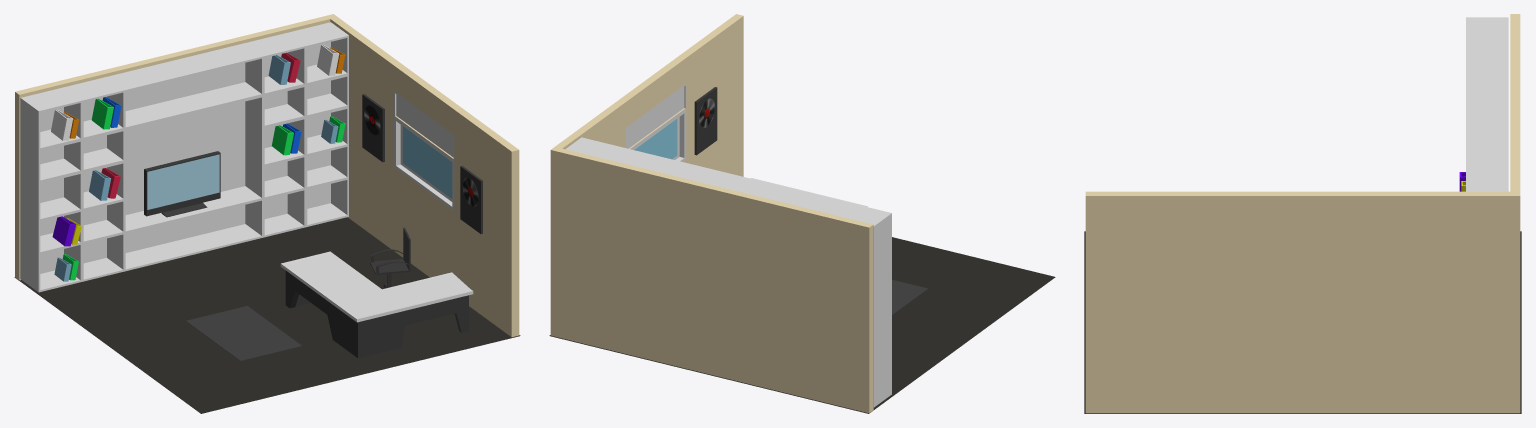
Rendered from Agent-office_Rap-battle.fbx.
3 renders of one model, left to right at view 1: azimuth 30°, elevation 25°; view 2: azimuth 150°, elevation 25°; view 3: azimuth 270°, elevation 25°, orthographic. The views are drawn at different scales.
Visible parts, largest first — view 1: Cube.019, floorr.003, wall.003, Cube.022, books, lcd.002, Plane.012, Cube.023, Cube.024, Cube.025; view 2: wall.003, floorr.003, Cube.019, Cube.024, Plane.012; view 3: wall.003, Cube.019, floorr.003.
Boxes of the visible parts, x1=… form: Cube.019: x1=20, y1=22, x2=348, y2=292; floorr.003: x1=14, y1=217, x2=520, y2=413; wall.003: x1=15, y1=14, x2=519, y2=337; Cube.022: x1=280, y1=251, x2=473, y2=358; books: x1=51, y1=44, x2=345, y2=281; lcd.002: x1=144, y1=151, x2=220, y2=217; Plane.012: x1=186, y1=306, x2=301, y2=360; Cube.023: x1=362, y1=94, x2=384, y2=162; Cube.024: x1=460, y1=166, x2=482, y2=233; Cube.025: x1=370, y1=227, x2=410, y2=289; wall.003: x1=550, y1=14, x2=873, y2=413; floorr.003: x1=549, y1=237, x2=1055, y2=413; Cube.019: x1=566, y1=137, x2=891, y2=407; Cube.024: x1=694, y1=87, x2=717, y2=155; Plane.012: x1=892, y1=279, x2=928, y2=314; wall.003: x1=1085, y1=14, x2=1520, y2=413; Cube.019: x1=1466, y1=17, x2=1508, y2=191; floorr.003: x1=1084, y1=231, x2=1521, y2=413.
Bounding box in the file's own units: 394 × 219 × 399.
